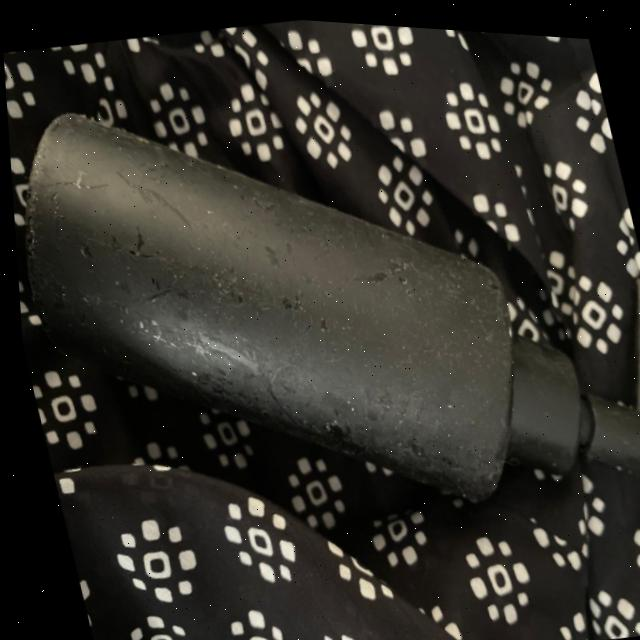setting spray: (0, 0, 640, 638)
